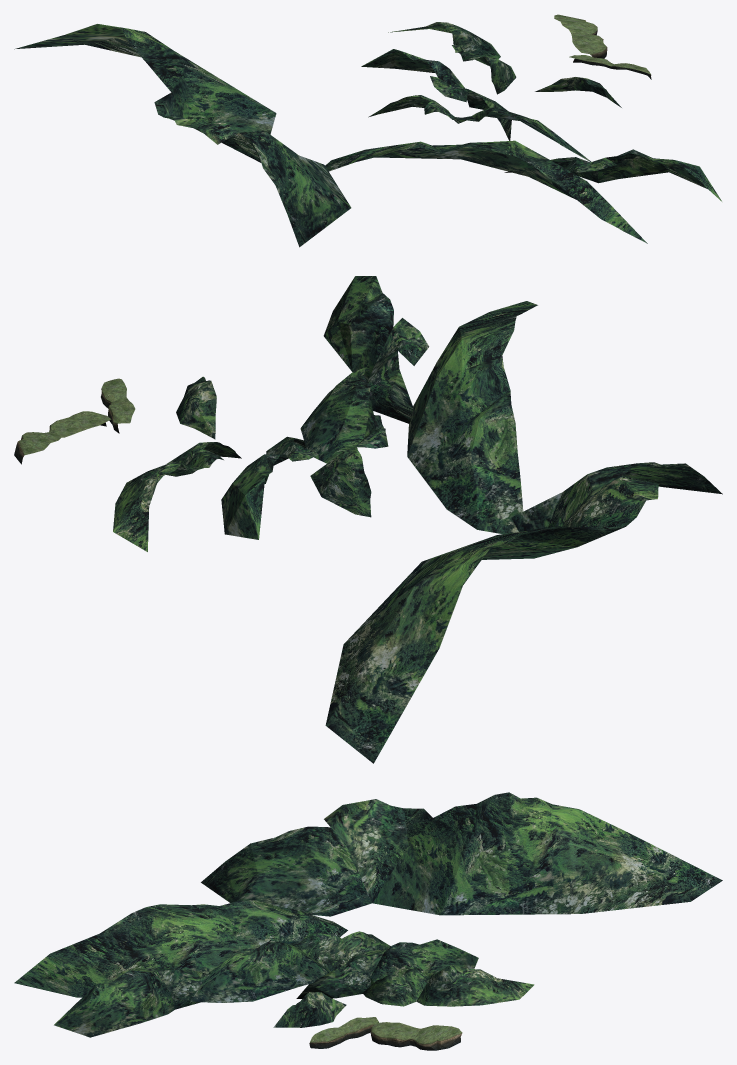
The model's file is SideMountain.glb.
3 renders of one model, top to bottom at view 1: azimuth 30°, elevation 25°; view 2: azimuth 150°, elevation 25°; view 3: azimuth 270°, elevation 25°, orthographic. The views are drawn at different scales.
Parts seen in each view (by area): view 1: stg102_o32_Mesh_0001, stg102_o32_Mesh_0003; view 2: stg102_o32_Mesh_0001, stg102_o32_Mesh_0003; view 3: stg102_o32_Mesh_0001, stg102_o32_Mesh_0003, stg102_o32_Mesh_0000, stg102_o32_Mesh_0002.
Boxes of the visible parts, x1,y1,x2,y2 form: stg102_o32_Mesh_0001: (14,22,721,247); stg102_o32_Mesh_0003: (554,14,650,74); stg102_o32_Mesh_0001: (113,276,722,763); stg102_o32_Mesh_0003: (21,378,135,454); stg102_o32_Mesh_0001: (14,792,722,1037); stg102_o32_Mesh_0003: (310,1017,462,1043); stg102_o32_Mesh_0000: (309,1028,460,1050); stg102_o32_Mesh_0002: (309,1021,462,1046).
Bounding box in the file's own units: 2019 × 396 × 2897.
Materials: 4 (4 with a texture image).
